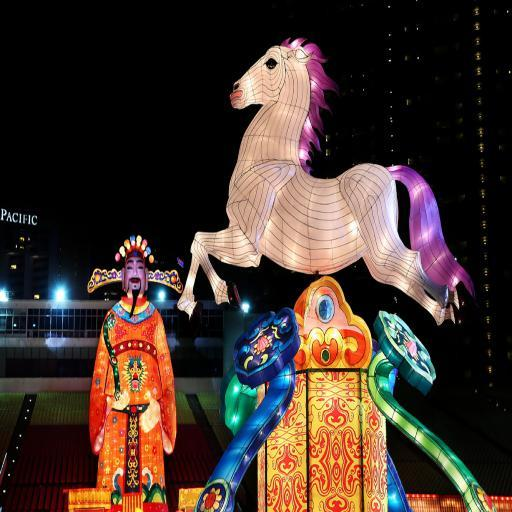Horse: (175, 35, 477, 328)
